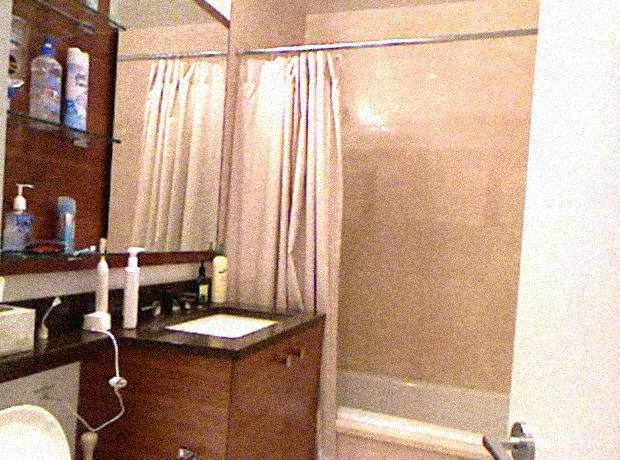Ducha: (239, 49, 506, 455)
Lavamanos: (142, 288, 287, 359)
Sanitario: (1, 375, 74, 458)
